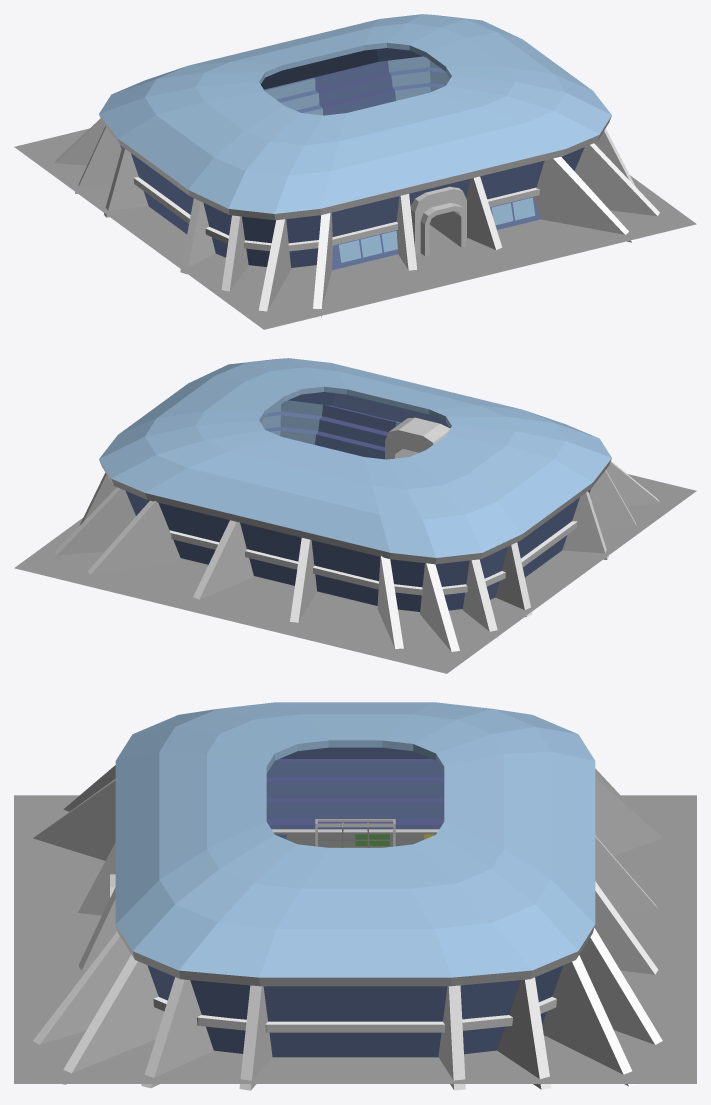
File: stadium_005.fbx
The picture shows the model from 3 angles, top to bottom: view 1: azimuth 30°, elevation 25°; view 2: azimuth 150°, elevation 25°; view 3: azimuth 270°, elevation 25°; orthographic projection. The views are drawn at different scales.
Visible parts, largest first — view 1: stadium_005; view 2: stadium_005; view 3: stadium_005.
Boxes of the visible parts, x1,y1,x2,y2 form: stadium_005: (14,14,696,329); stadium_005: (14,358,696,673); stadium_005: (14,702,696,1090).
Size of the model in its own units: 1600 by 401 by 1600.
